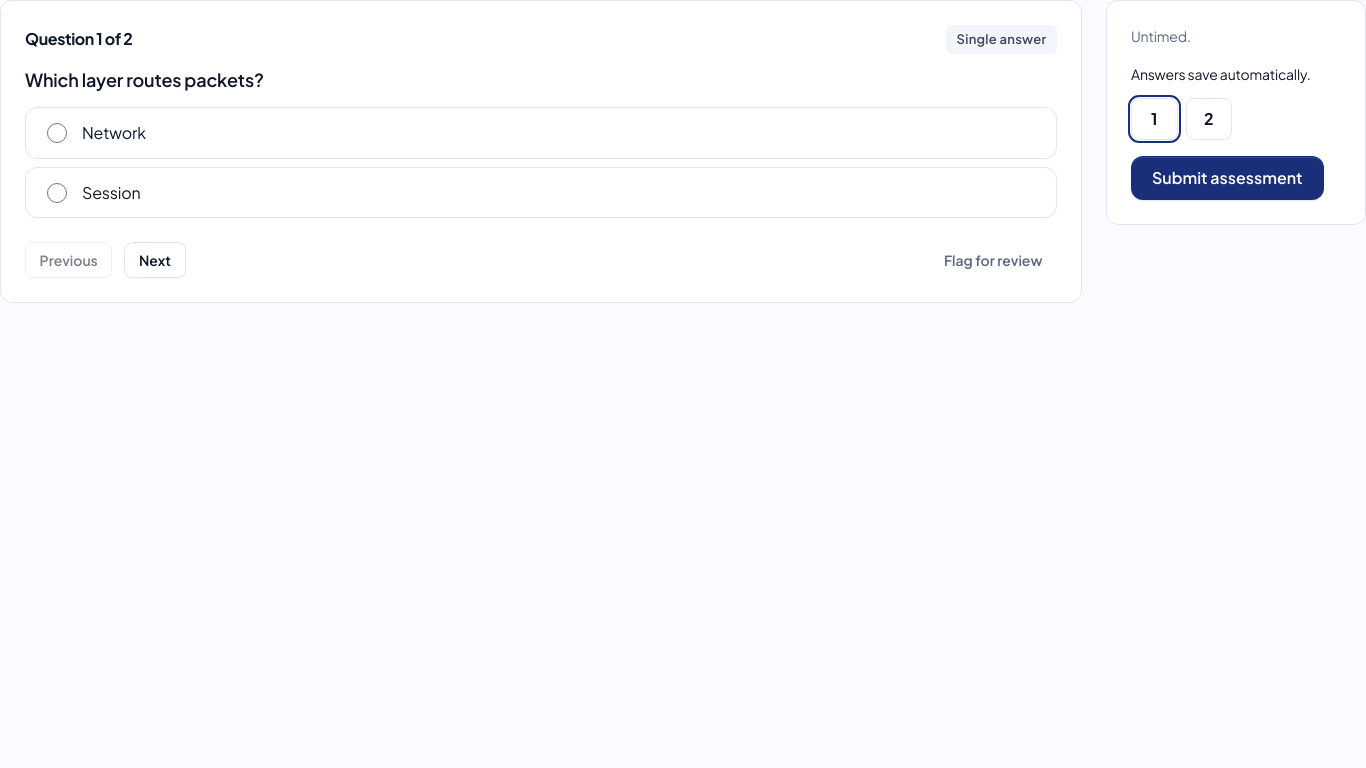
Test: AttemptPlayer › lists unanswered questions in the submit confirmation
Click the button "Submit assessment" at (1227, 178), box [1131,156,1324,200]
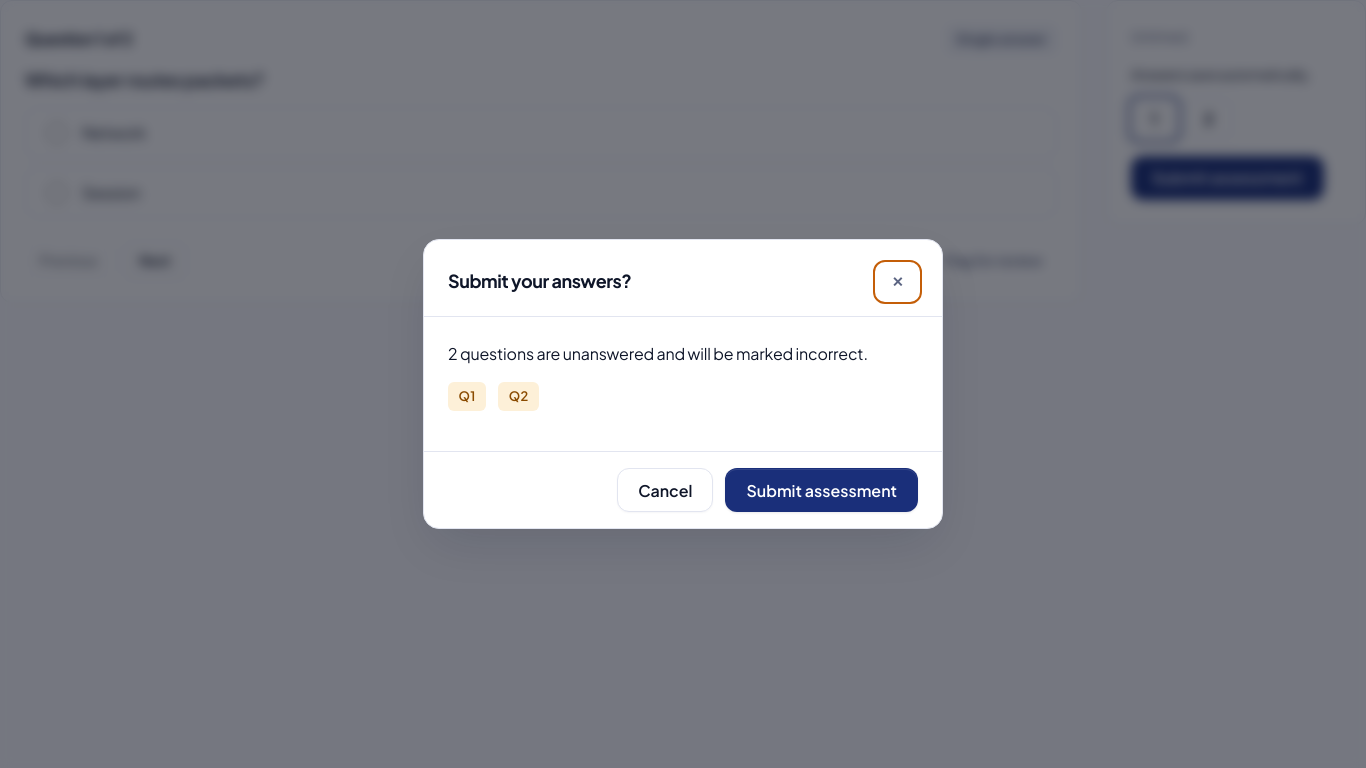
expect the text "2 questions are unanswered and will be marked incorrect." is shown: met, box [448,341,918,366]
expect the text "Q1" is shown: met, box [448,382,486,411]
expect the text "Q2" is shown: met, box [498,382,539,411]
